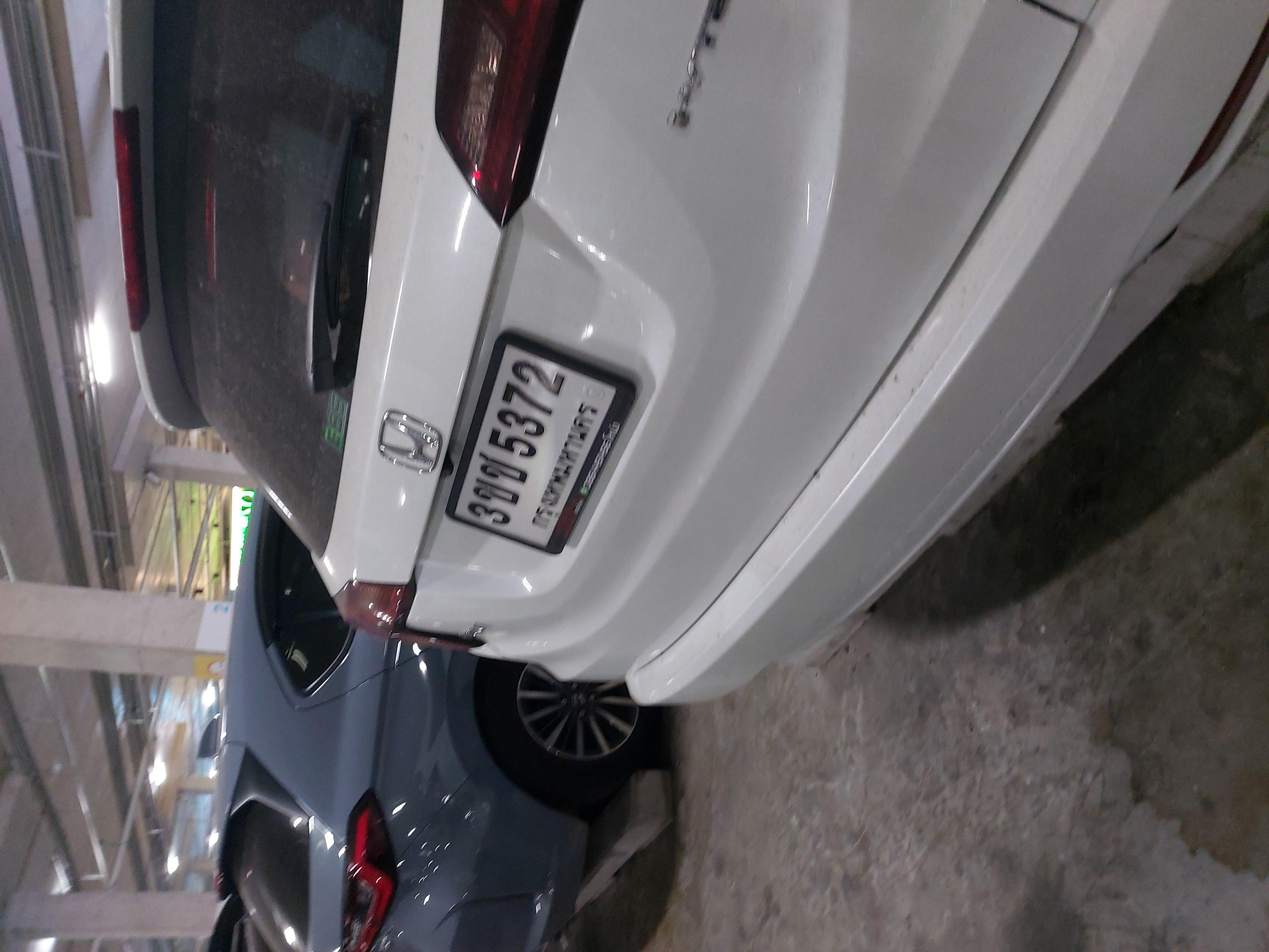license-plate: (537, 339, 810, 461)
